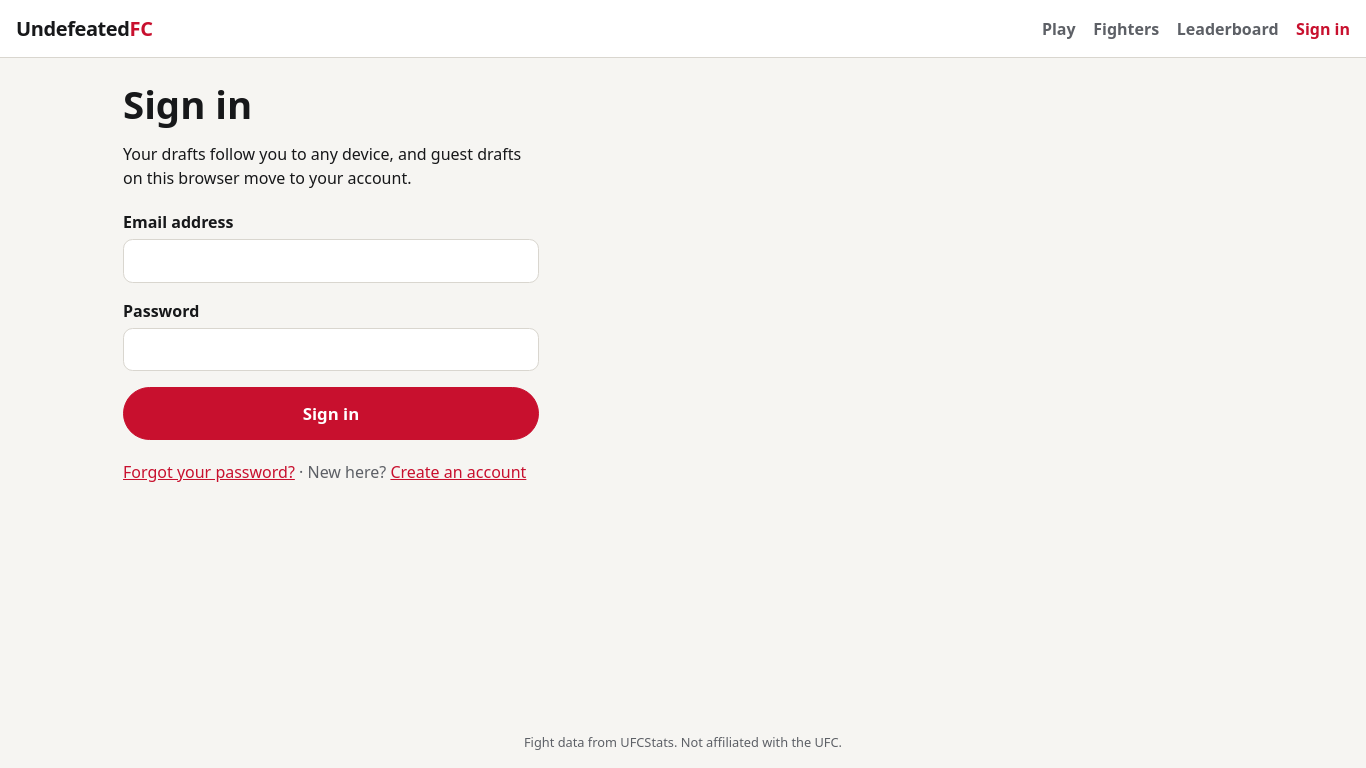
a wrong password shows the server message
In the field labelled "Email address": (331, 261) [123,239,539,283], type "one@example.com"
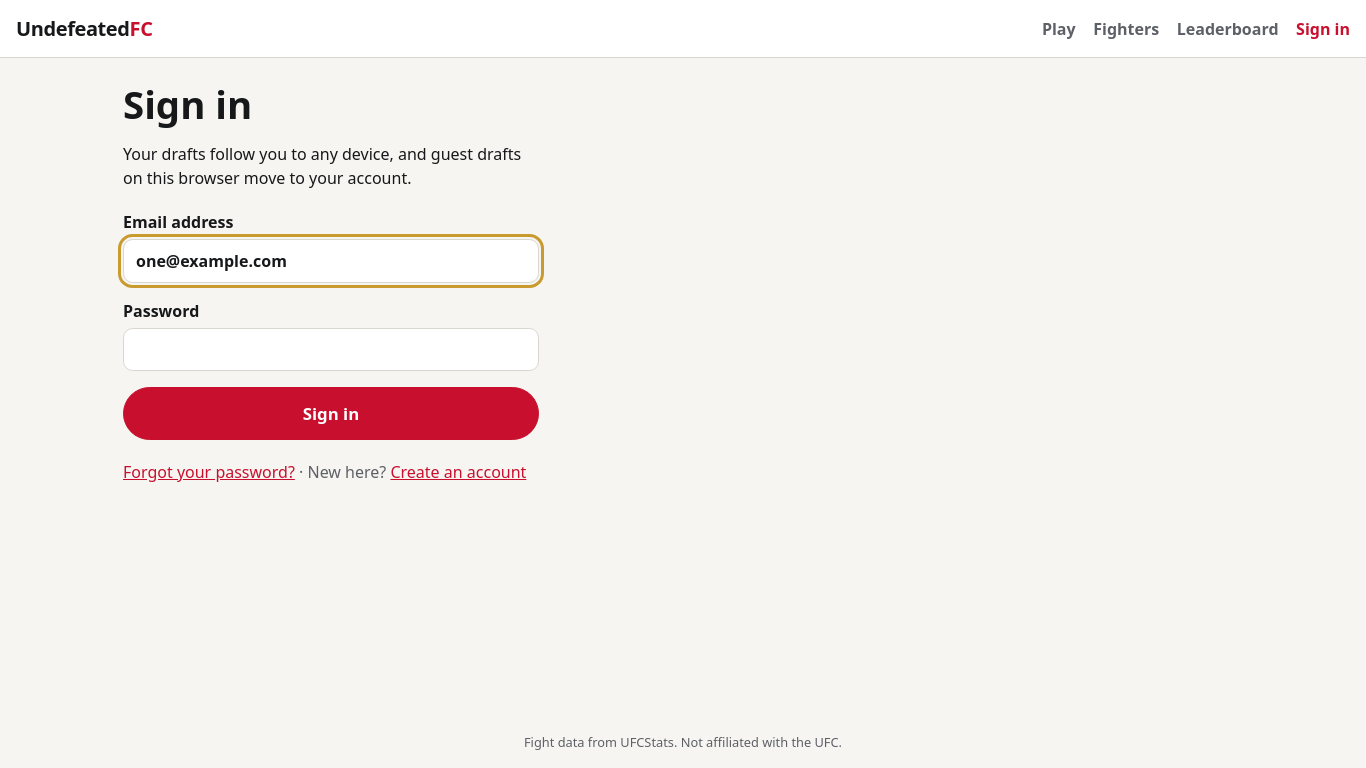
In the password field labelled "Password": (331, 349) [123,328,539,371], type "nope"
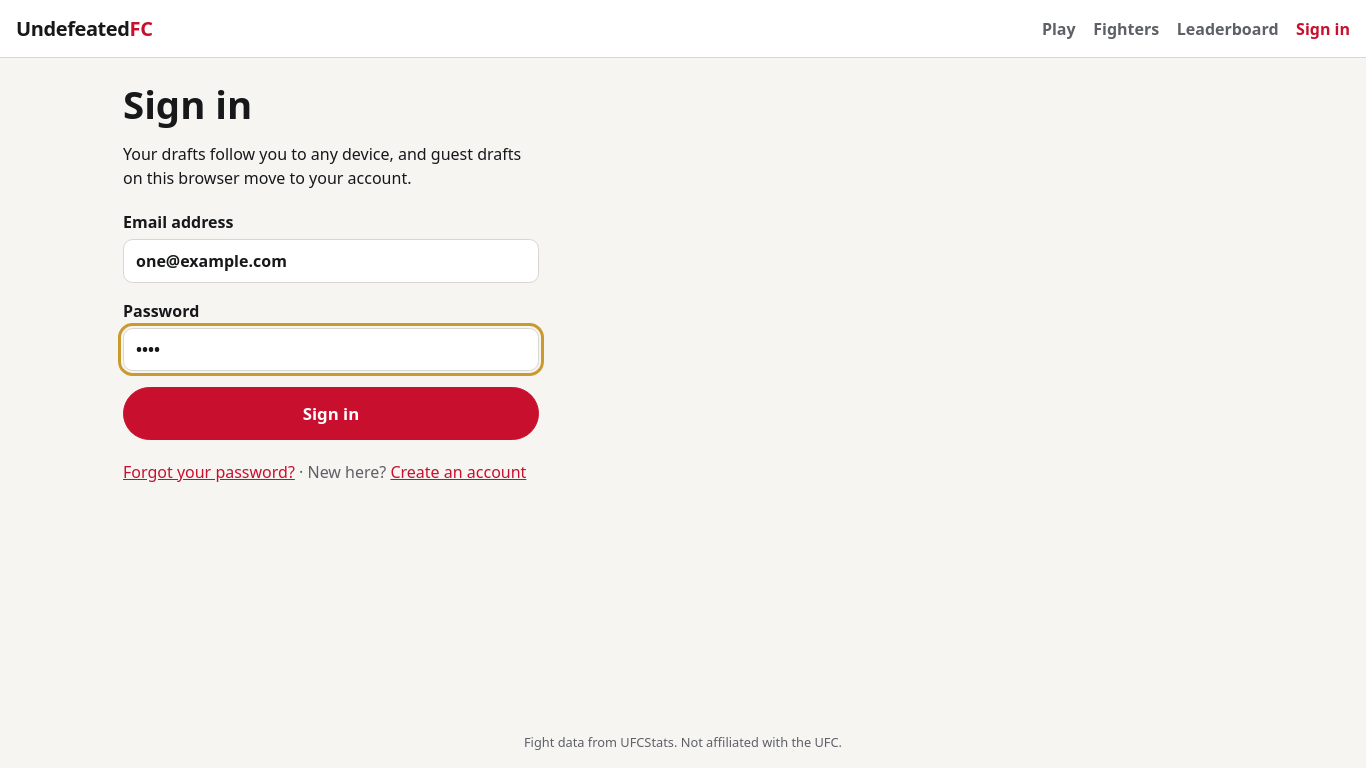
Click the button "Sign in": (331, 414) [123,387,539,440]
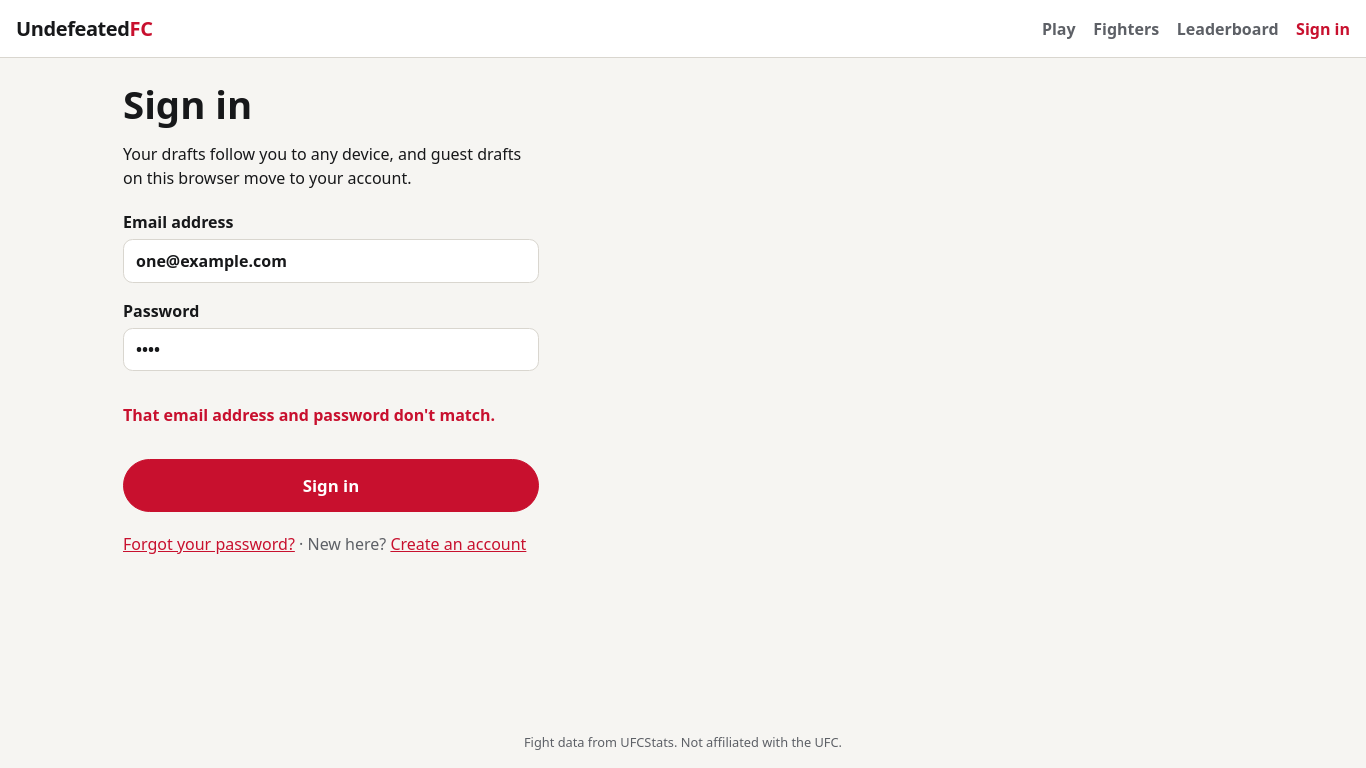
Expected: the message reads "That email address and password don't match.", [123,404,495,426]
